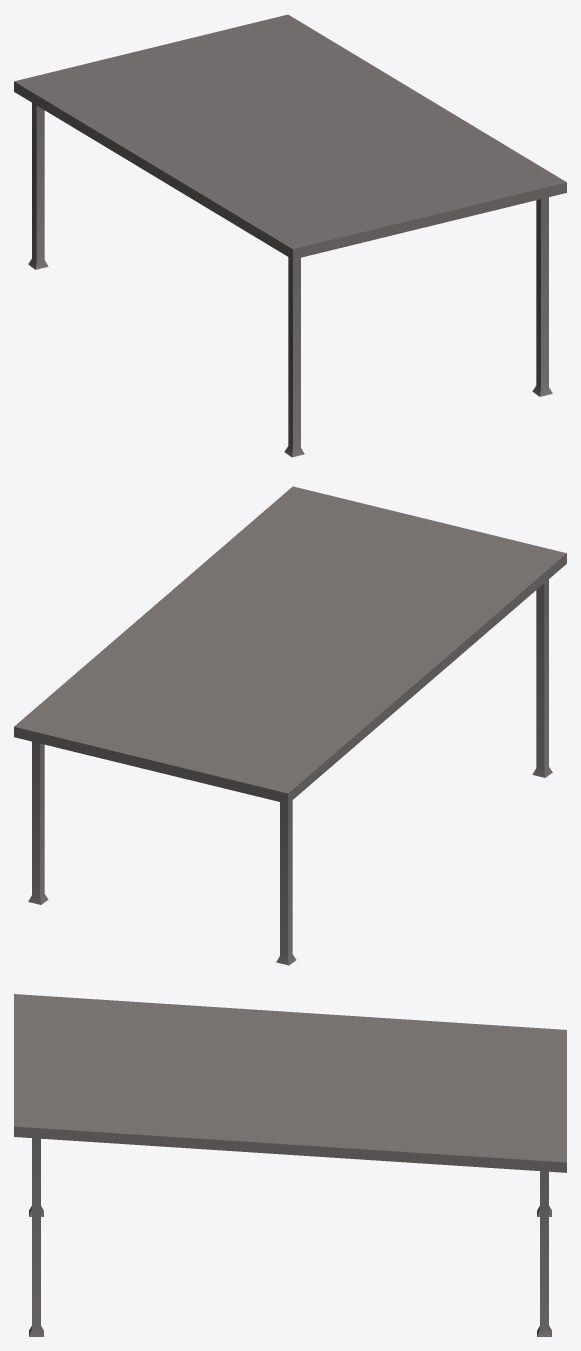
Rendered from SM_Roofing_01.FBX.
3 views of the same model, one above another, from view 1: azimuth 30°, elevation 25°; view 2: azimuth 150°, elevation 25°; view 3: azimuth 270°, elevation 25° (orthographic).
Visible parts, largest first — view 1: SM_Roofing_01; view 2: SM_Roofing_01; view 3: SM_Roofing_01.
Boxes of the visible parts, x1,y1,x2,y2 form: SM_Roofing_01: (14, 14, 566, 457); SM_Roofing_01: (14, 486, 566, 965); SM_Roofing_01: (14, 994, 566, 1336).
Bounding box in the file's own units: 420 × 740 × 315.
